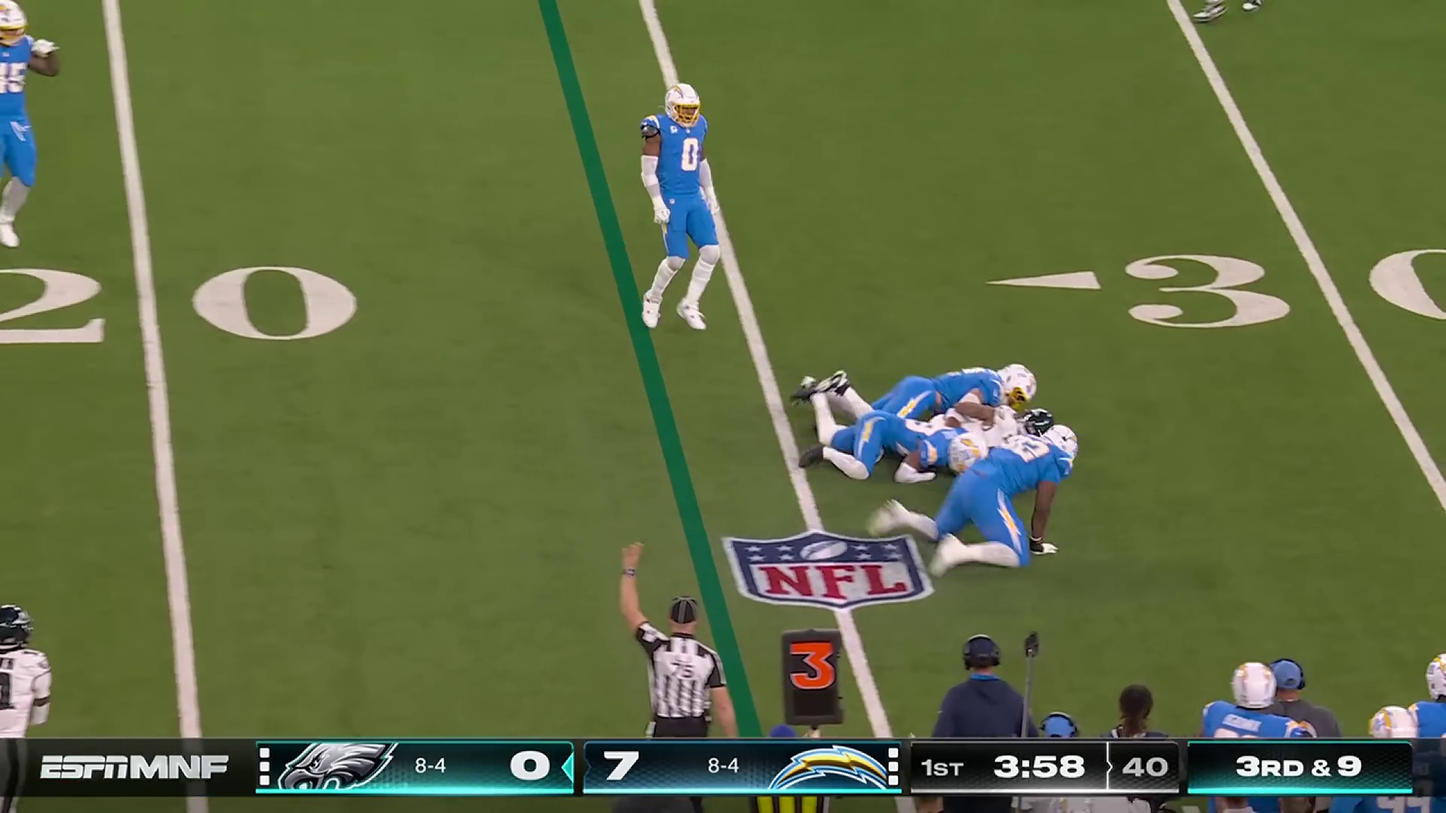player: (880, 424, 1080, 573), (638, 77, 739, 338), (0, 0, 46, 259), (825, 413, 947, 494), (813, 368, 1093, 399), (934, 406, 1068, 463)
